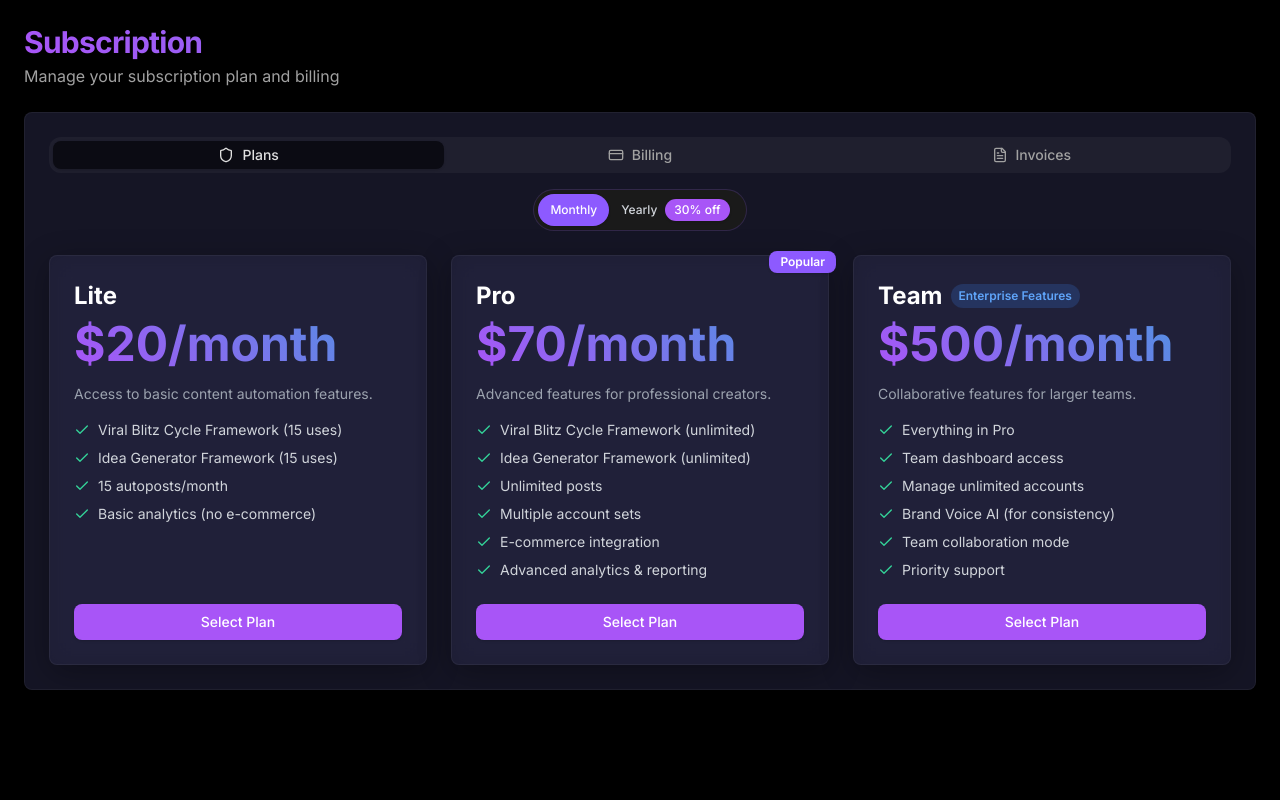
Payment Flow Tests › SubscriptionComponent › should handle window.open errors gracefully
Click the button "Select Plan" below "Advanced analytics & reporting": (640, 622) [476, 604, 804, 640]
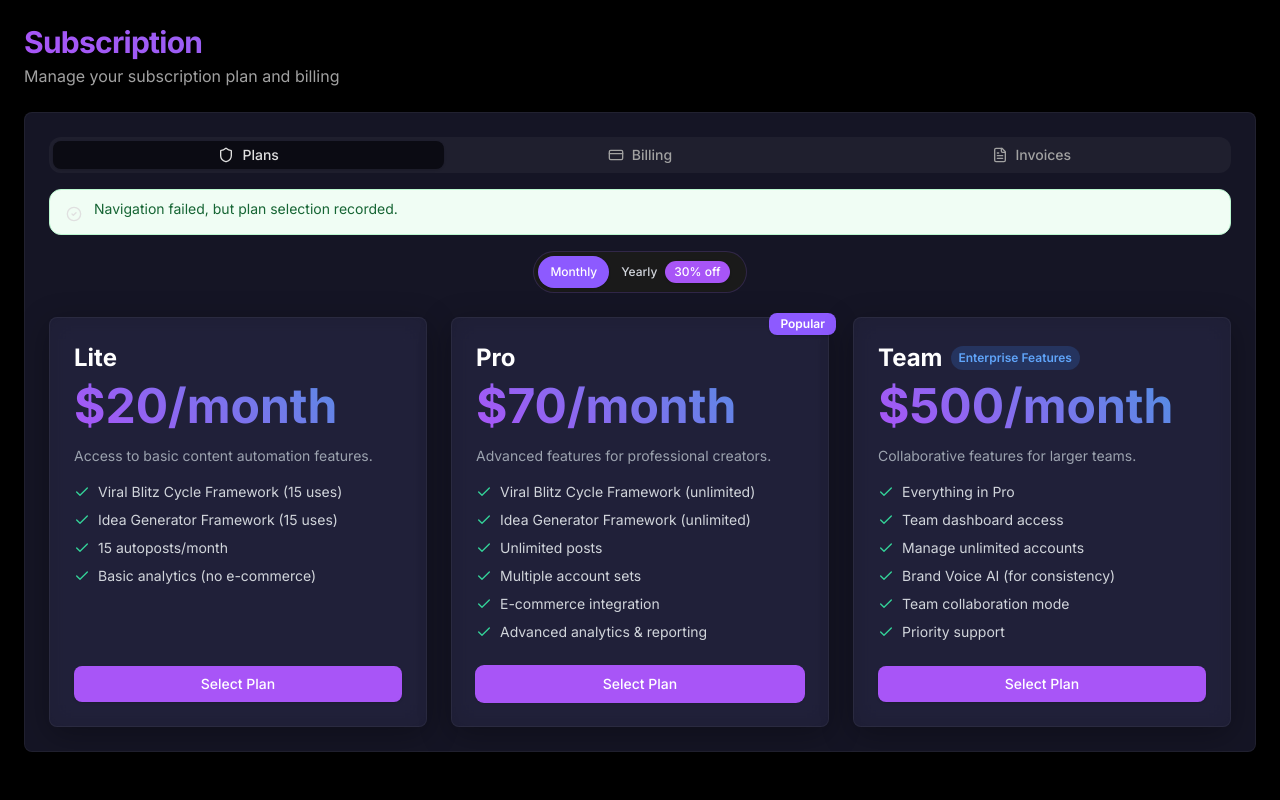
Expected: the text "Navigation failed, but plan selection recorded." is shown, [94, 200, 398, 217]
